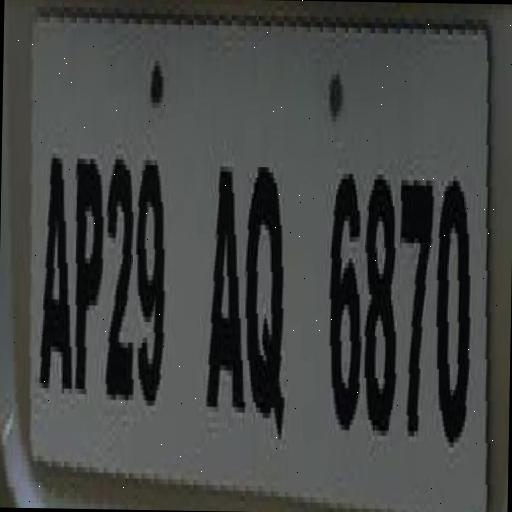number plate: (0, 6, 495, 495)
